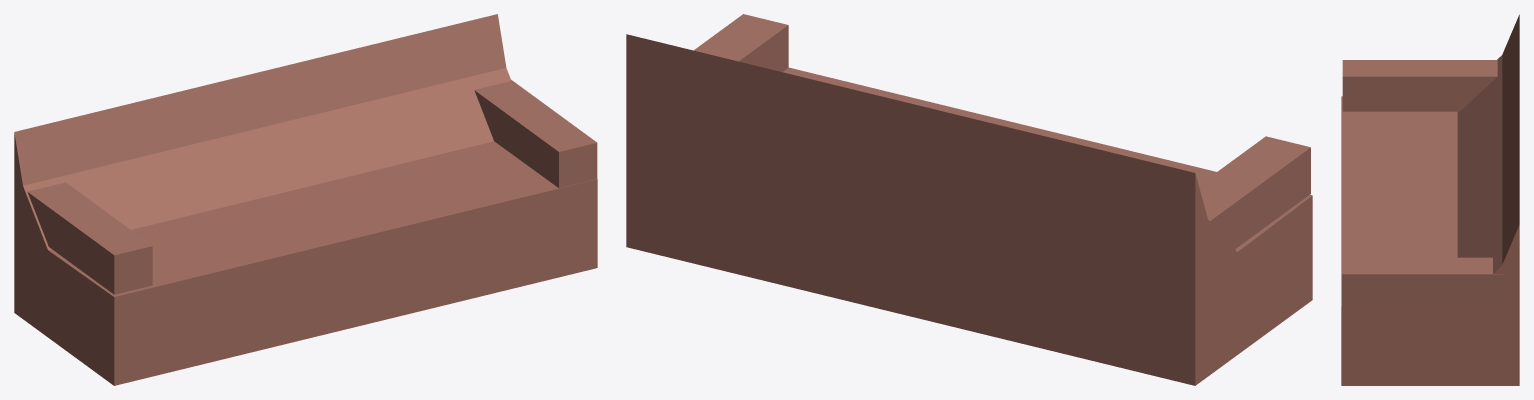
Rendered from couch.fbx.
The picture shows the model from 3 angles, left to right: view 1: azimuth 30°, elevation 25°; view 2: azimuth 150°, elevation 25°; view 3: azimuth 270°, elevation 25°; orthographic projection. The views are drawn at different scales.
Visible parts, largest first — view 1: Cube; view 2: Cube; view 3: Cube.
Boxes of the visible parts, x1,y1,x2,y2 form: Cube: (14,14,597,385); Cube: (626,14,1312,385); Cube: (1341,14,1519,385).
Bounding box in the file's own units: 621 × 222 × 222.
